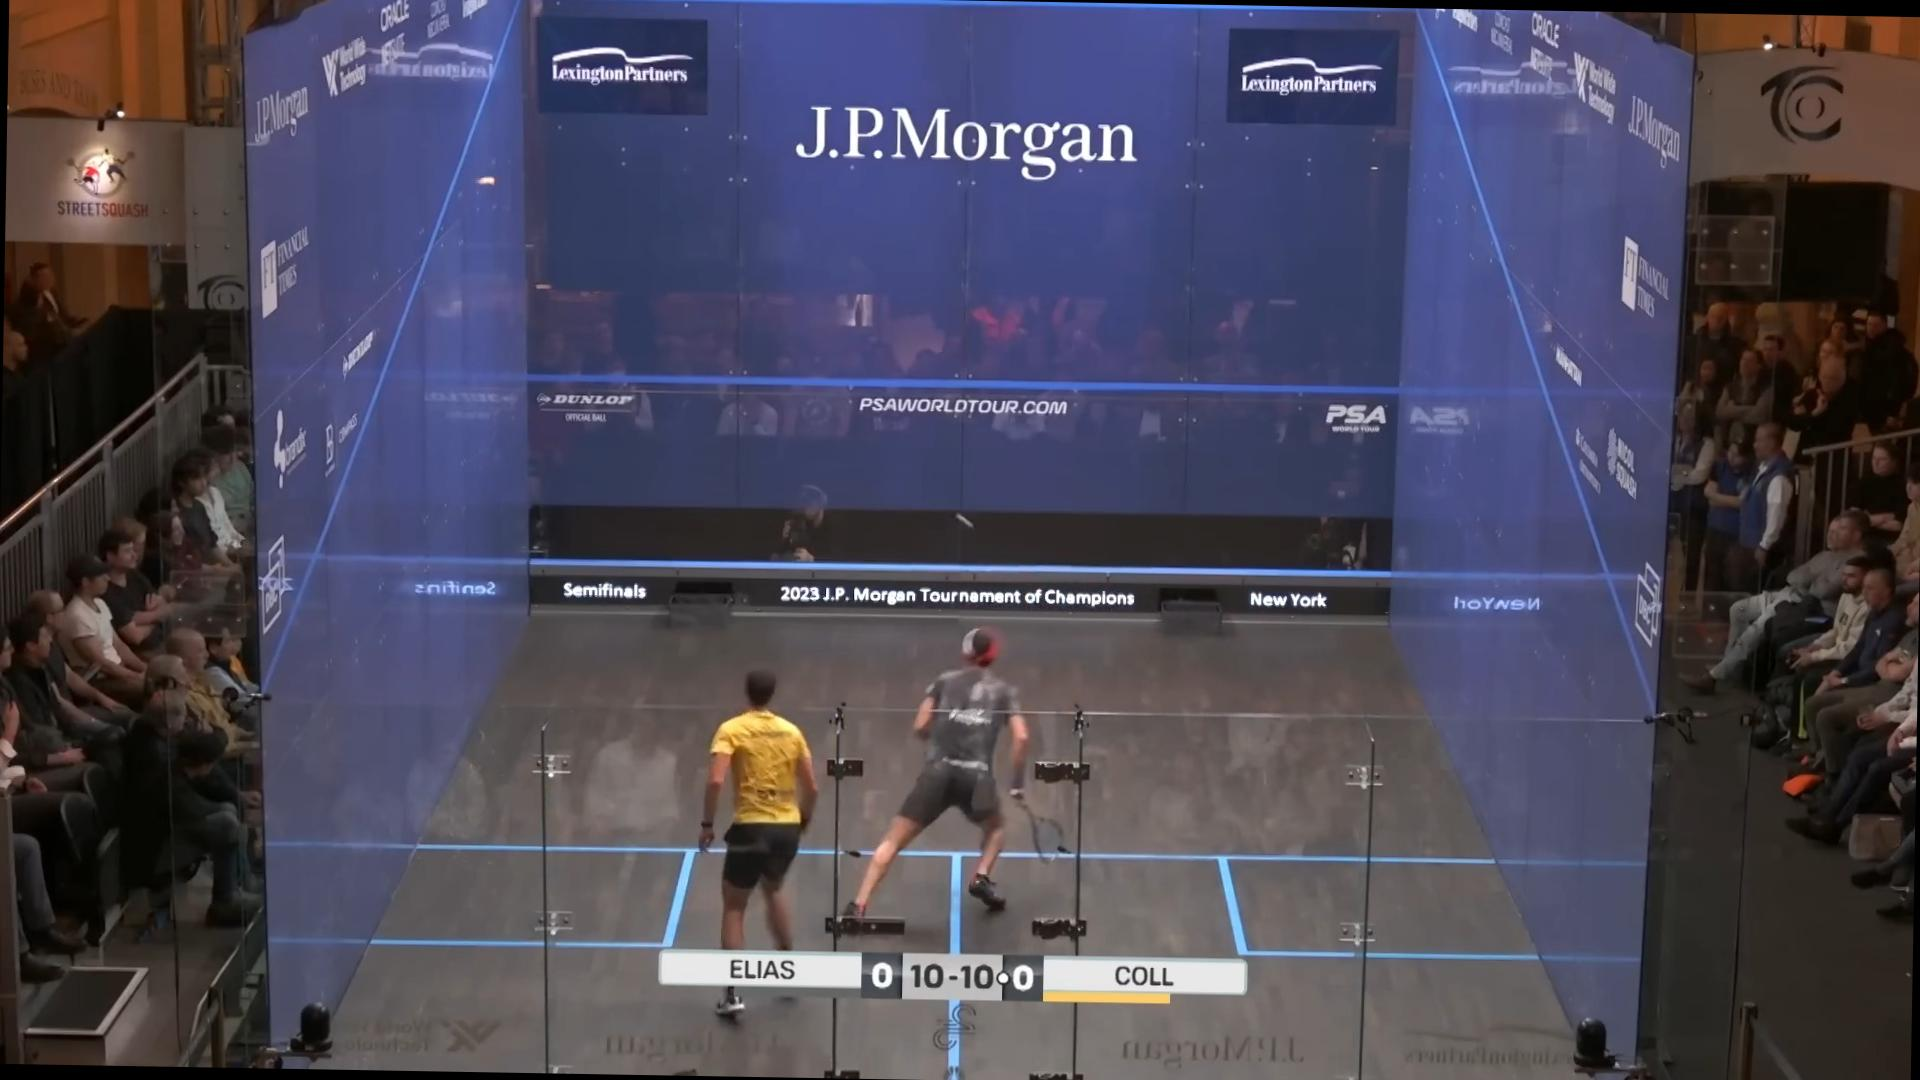Racket: (1000, 800, 1067, 869)
